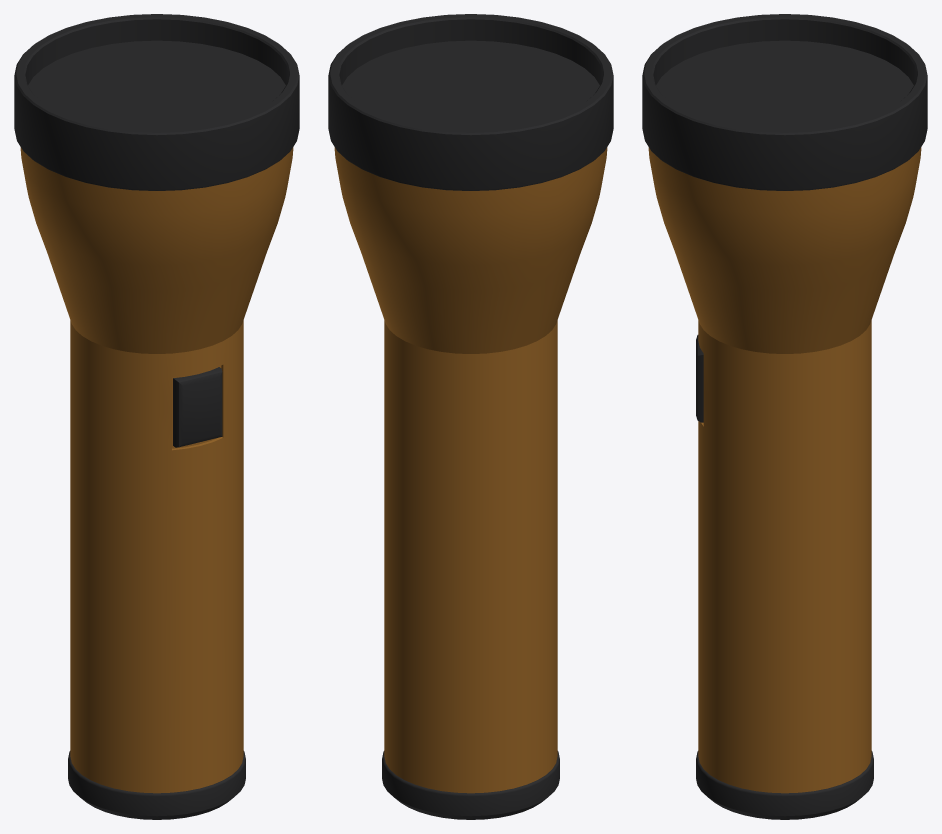
Rendered from flashlight.fbx.
The picture shows the model from 3 angles, left to right: view 1: azimuth 30°, elevation 25°; view 2: azimuth 150°, elevation 25°; view 3: azimuth 270°, elevation 25°; orthographic projection.
Visible parts, largest first — view 1: Cylinder; view 2: Cylinder; view 3: Cylinder.
Part boxes in pixels (left/top/right/bottom): Cylinder: left=14, top=14, right=299, bottom=819; Cylinder: left=328, top=14, right=613, bottom=819; Cylinder: left=642, top=14, right=927, bottom=819.
Size of the model in its own units: 9.88 by 27.24 by 9.88.
